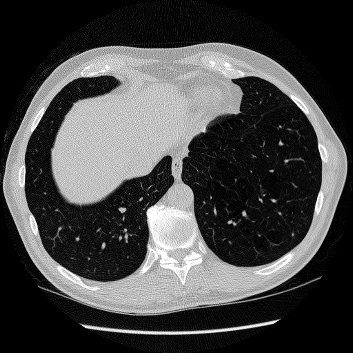PN: (118, 206, 126, 214)
